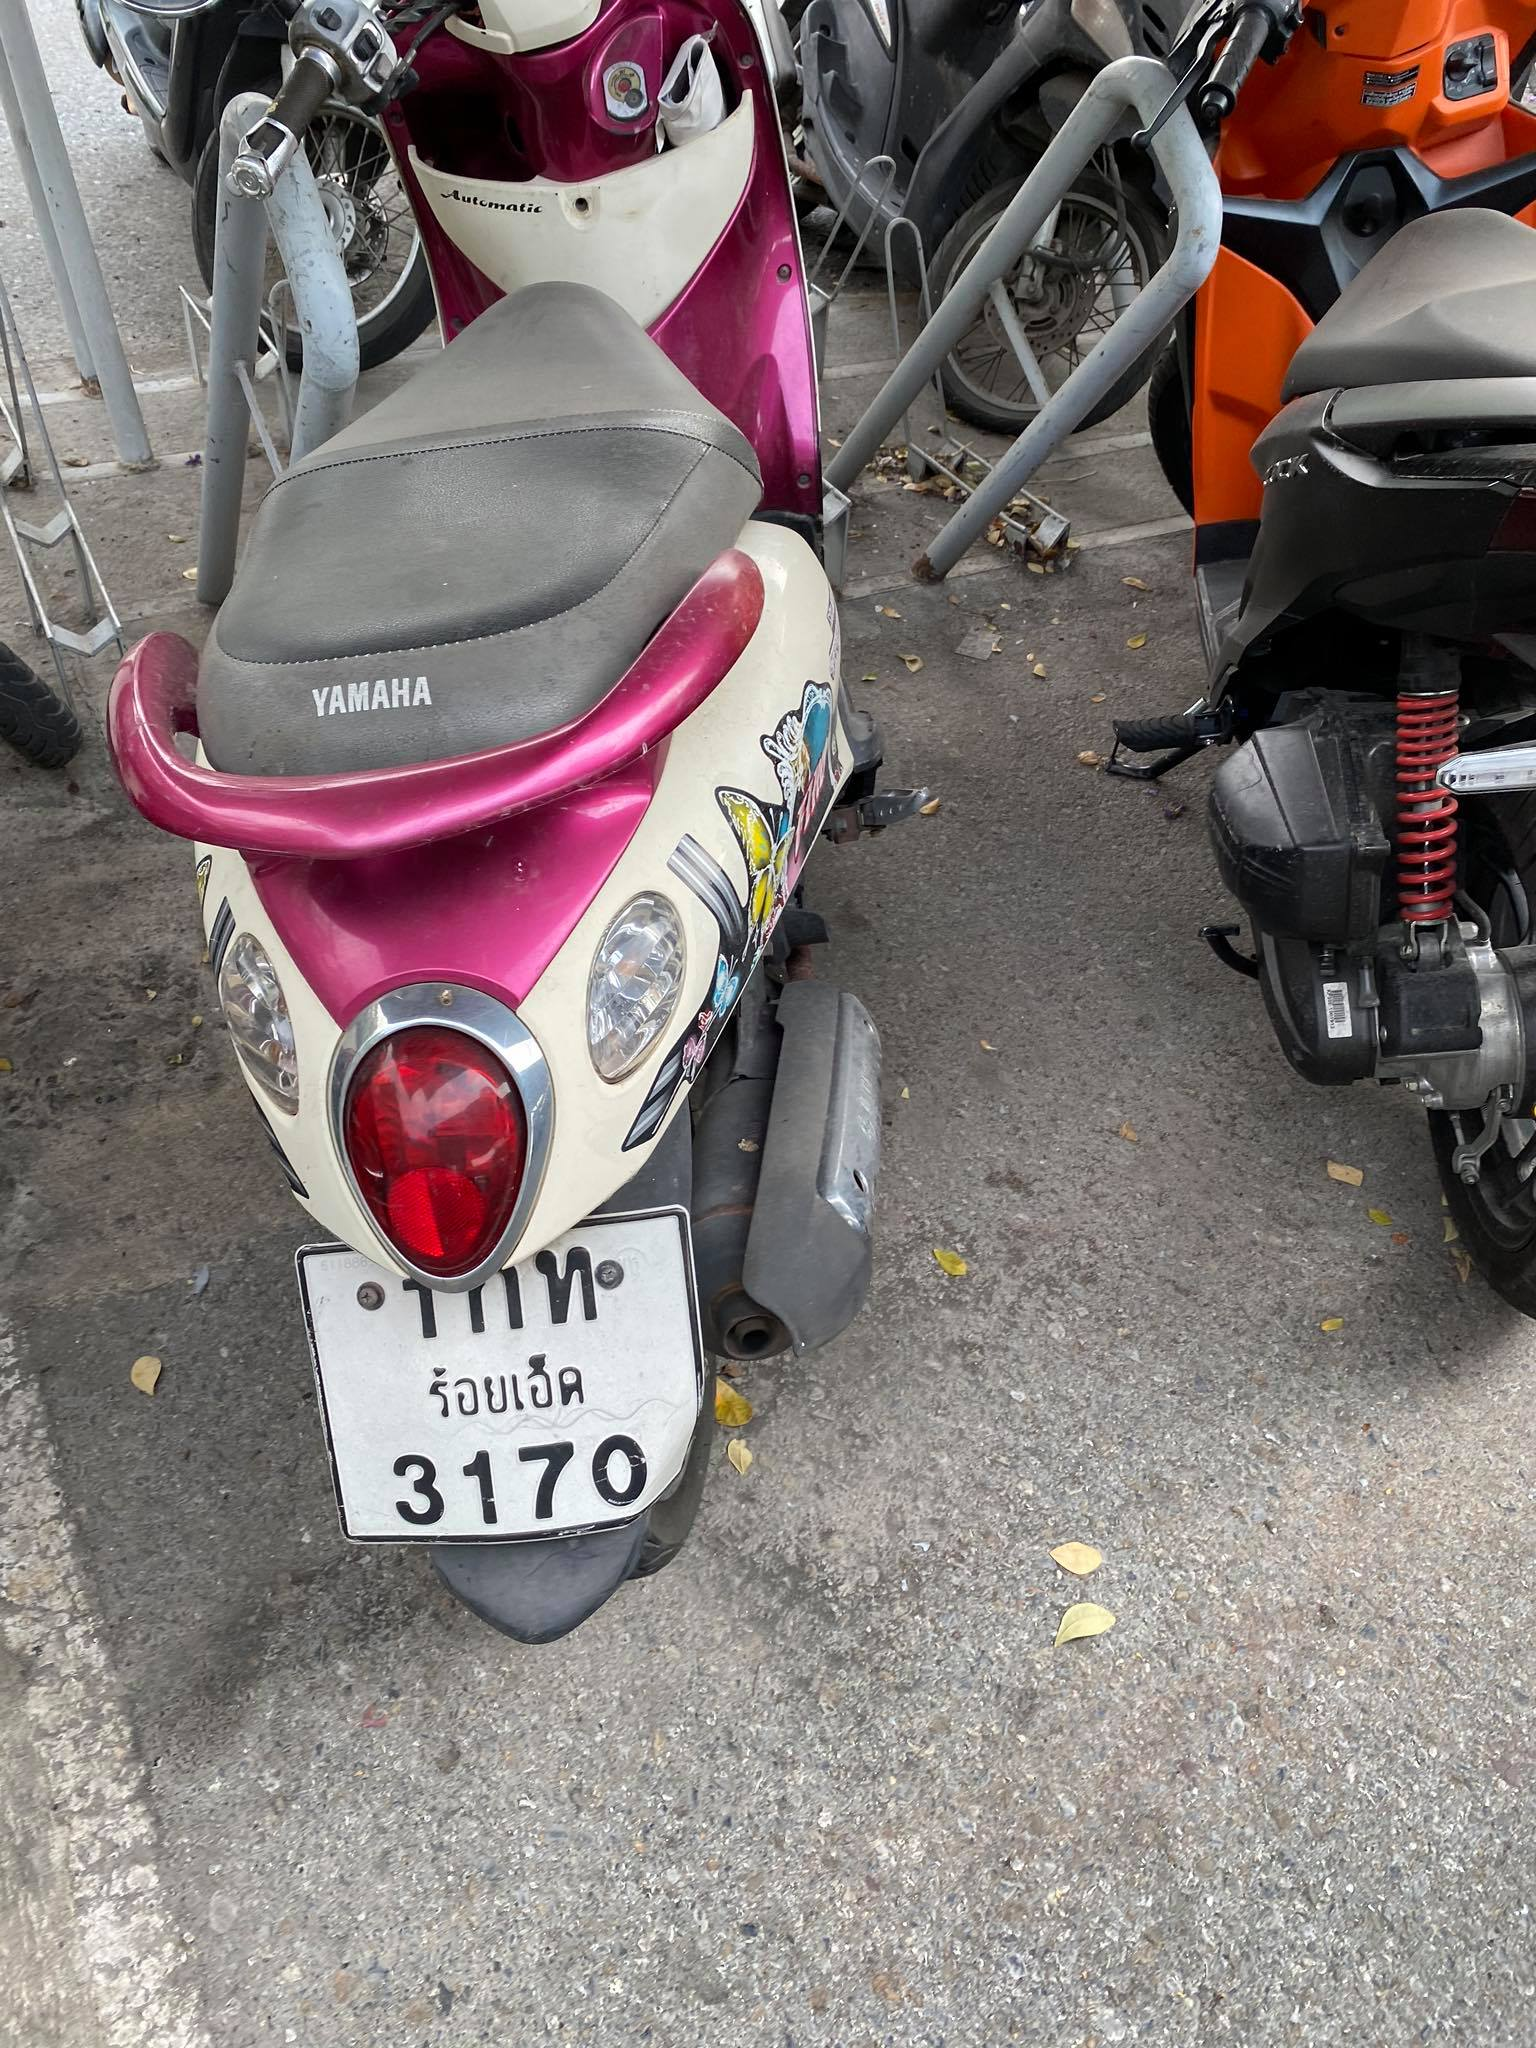line1: (390, 1235, 610, 1345)
line2: (419, 1348, 587, 1422)
line3: (382, 1430, 657, 1527)
